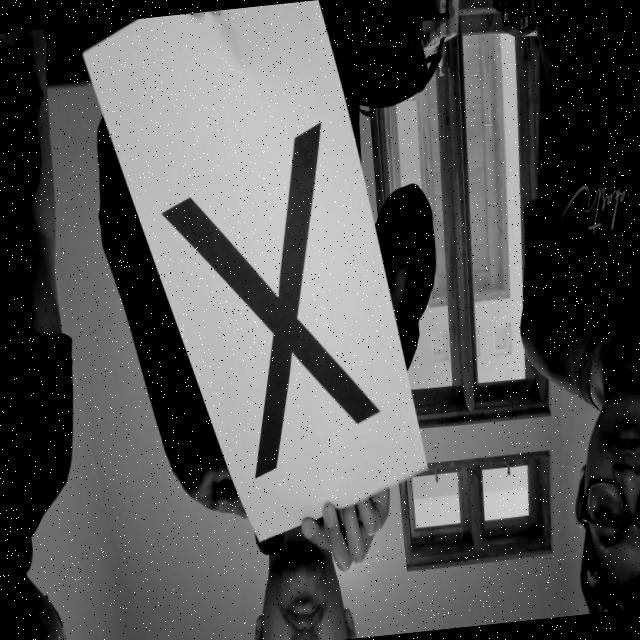x: (126, 99, 420, 502)
